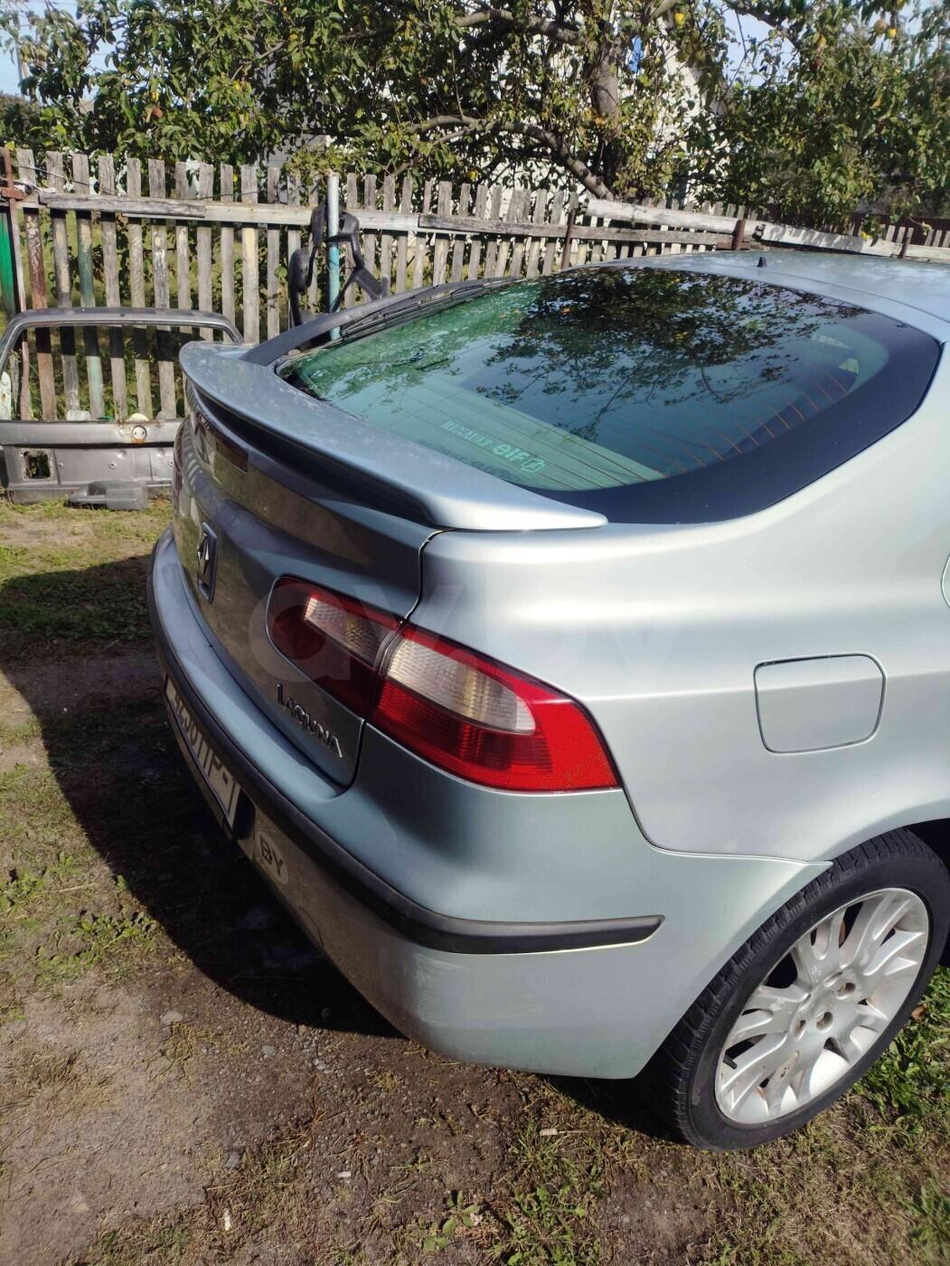Laguna_2001-2005: (147, 252, 949, 1149)
